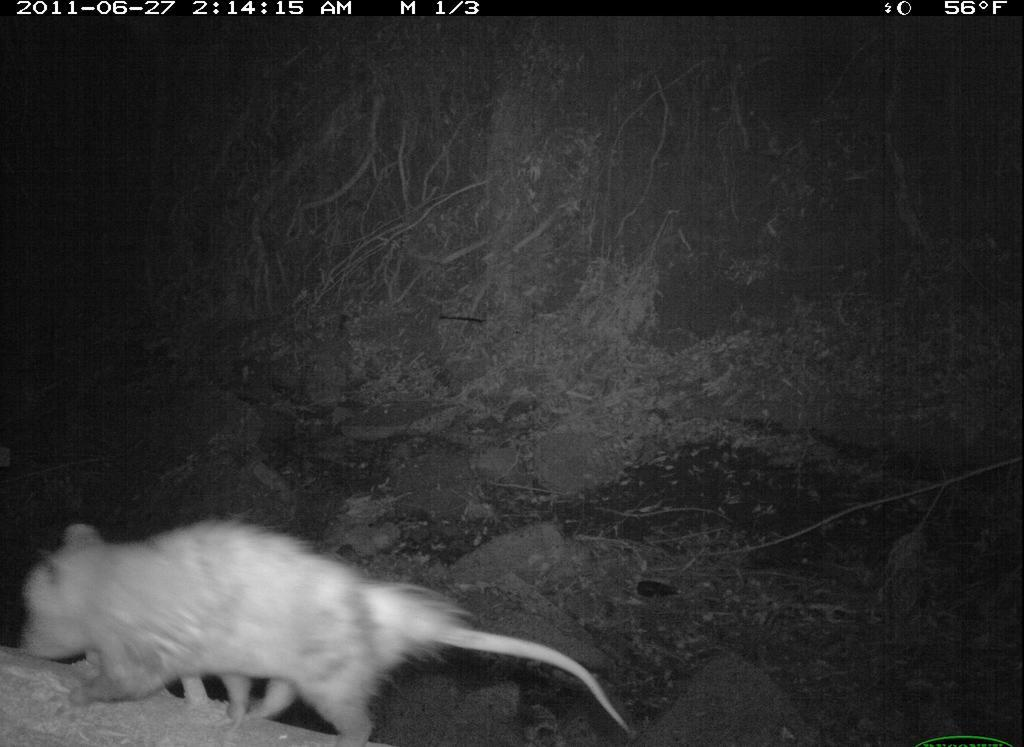opossum: (12, 511, 641, 740)
